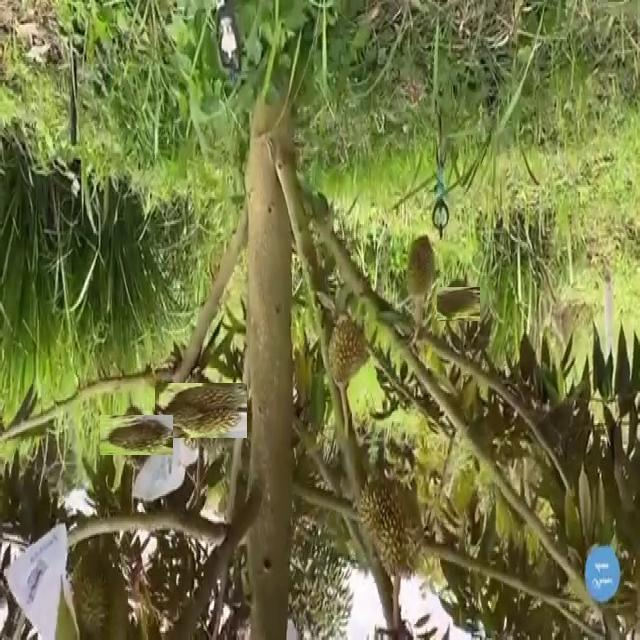durian: (356, 468, 426, 584), (163, 373, 238, 448), (324, 306, 372, 390), (108, 407, 164, 463), (402, 226, 437, 304), (439, 284, 477, 324)
